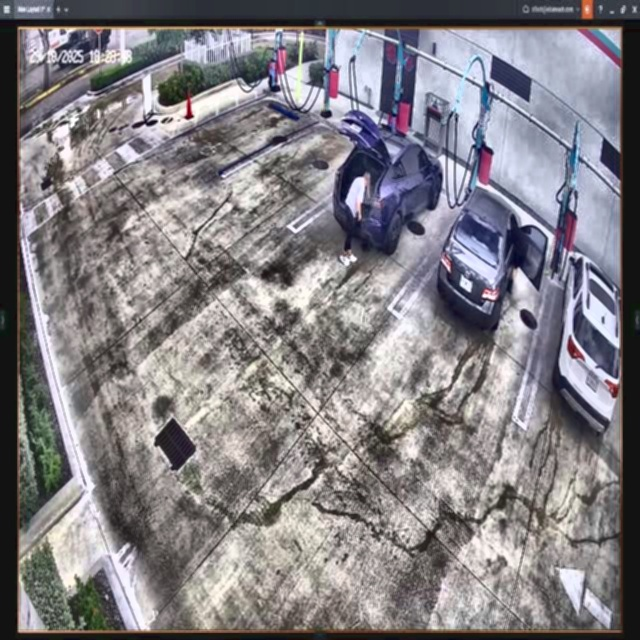Car: (438, 187, 547, 329), (336, 110, 442, 249)
